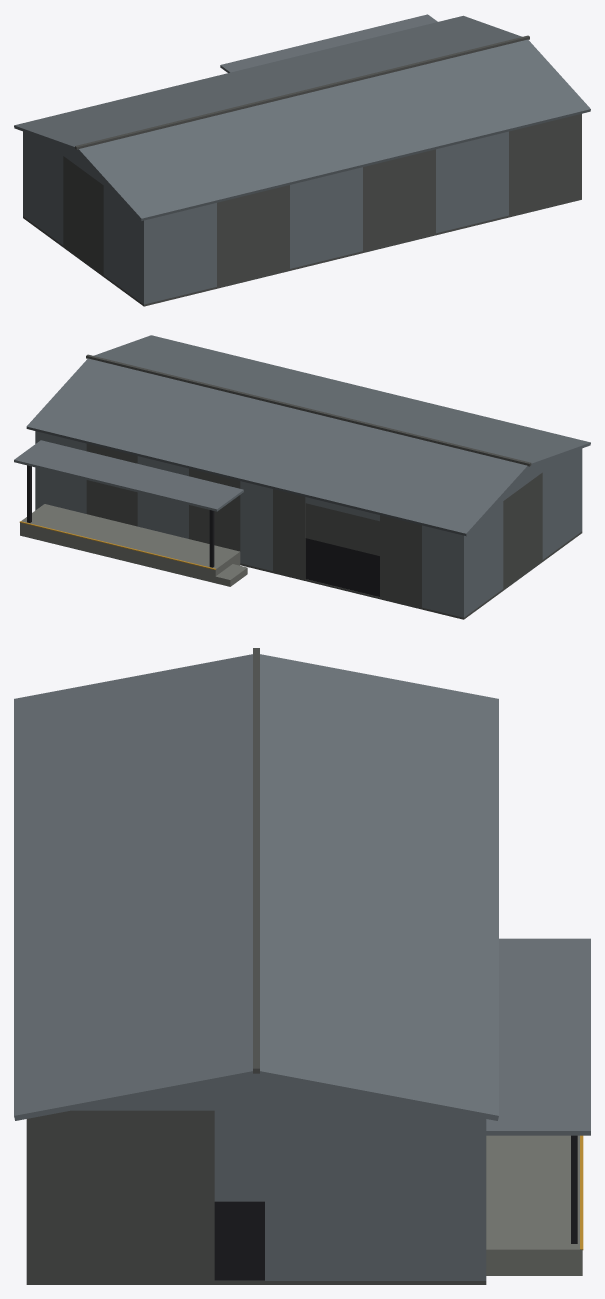
File: warehouse_lod1.glb
3 views of the same model, one above another, from view 1: azimuth 30°, elevation 25°; view 2: azimuth 150°, elevation 25°; view 3: azimuth 270°, elevation 25° (orthographic). The views are drawn at different scales.
Parts seen in each view (by area): view 1: warehouse_lod1; view 2: warehouse_lod1; view 3: warehouse_lod1.
Part boxes in pixels (x1=…): warehouse_lod1: x1=14, y1=14, x2=590, y2=306; warehouse_lod1: x1=14, y1=335, x2=590, y2=619; warehouse_lod1: x1=14, y1=648, x2=590, y2=1284.
Size of what is drawn, in the model's own units: 23.8 by 5.9 by 13.8.
Materials: 1 (1 with a texture image).
